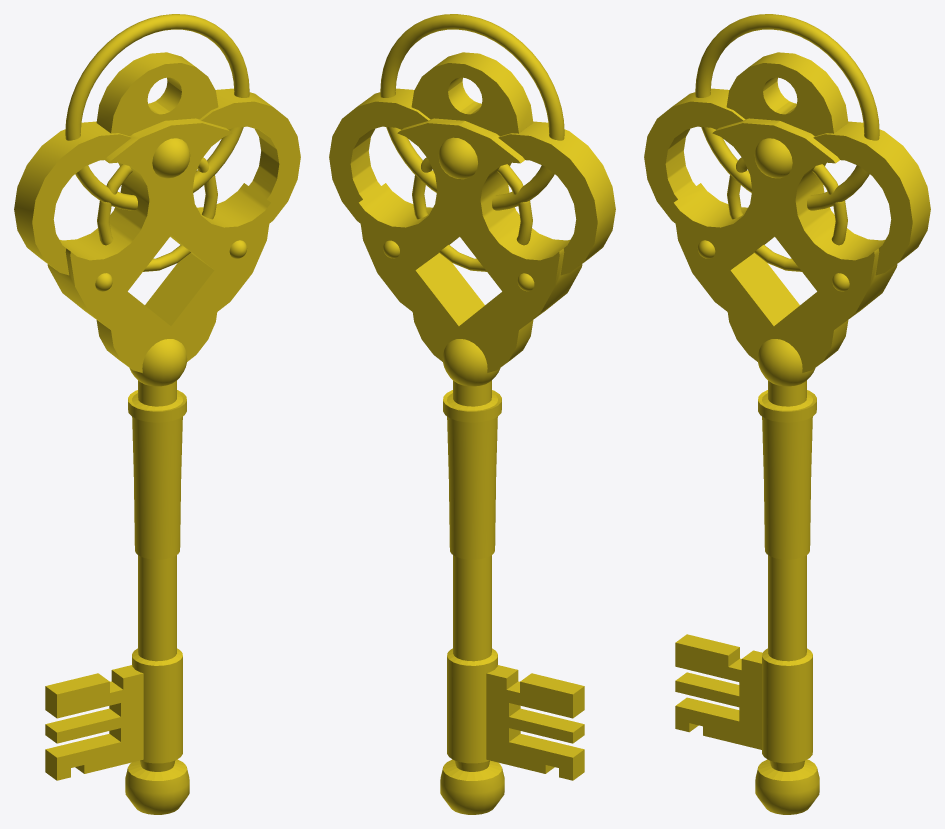
Rendered from key4.glb.
3 renders of one model, left to right at view 1: azimuth 30°, elevation 25°; view 2: azimuth 150°, elevation 25°; view 3: azimuth 330°, elevation 25°, orthographic.
Parts seen in each view (by area): view 1: pCylinder17, pCylinder1, pCube11, pTorus4, pSphere7, pSphere1; view 2: pCylinder17, pCylinder1, pCube11, pTorus4, pSphere7, pSphere2; view 3: pCylinder17, pCylinder1, pTorus4, pCube11, pSphere7, pSphere1.
Part boxes in pixels (bbox=[...]): pCylinder17: bbox=[14, 52, 300, 372]; pCylinder1: bbox=[125, 380, 189, 814]; pCube11: bbox=[45, 665, 143, 780]; pTorus4: bbox=[65, 14, 249, 271]; pSphere7: bbox=[129, 339, 187, 386]; pSphere1: bbox=[152, 138, 190, 178]; pCylinder17: bbox=[329, 52, 615, 372]; pCylinder1: bbox=[440, 380, 504, 814]; pCube11: bbox=[486, 665, 584, 780]; pTorus4: bbox=[380, 14, 564, 271]; pSphere7: bbox=[442, 339, 500, 386]; pSphere2: bbox=[438, 137, 477, 179]; pCylinder17: bbox=[644, 52, 930, 372]; pCylinder1: bbox=[755, 380, 819, 814]; pTorus4: bbox=[695, 14, 879, 271]; pCube11: bbox=[675, 634, 762, 749]; pSphere7: bbox=[757, 339, 815, 386]; pSphere1: bbox=[754, 138, 792, 178].
Bounding box in the file's own units: 666 × 1876 × 188.
